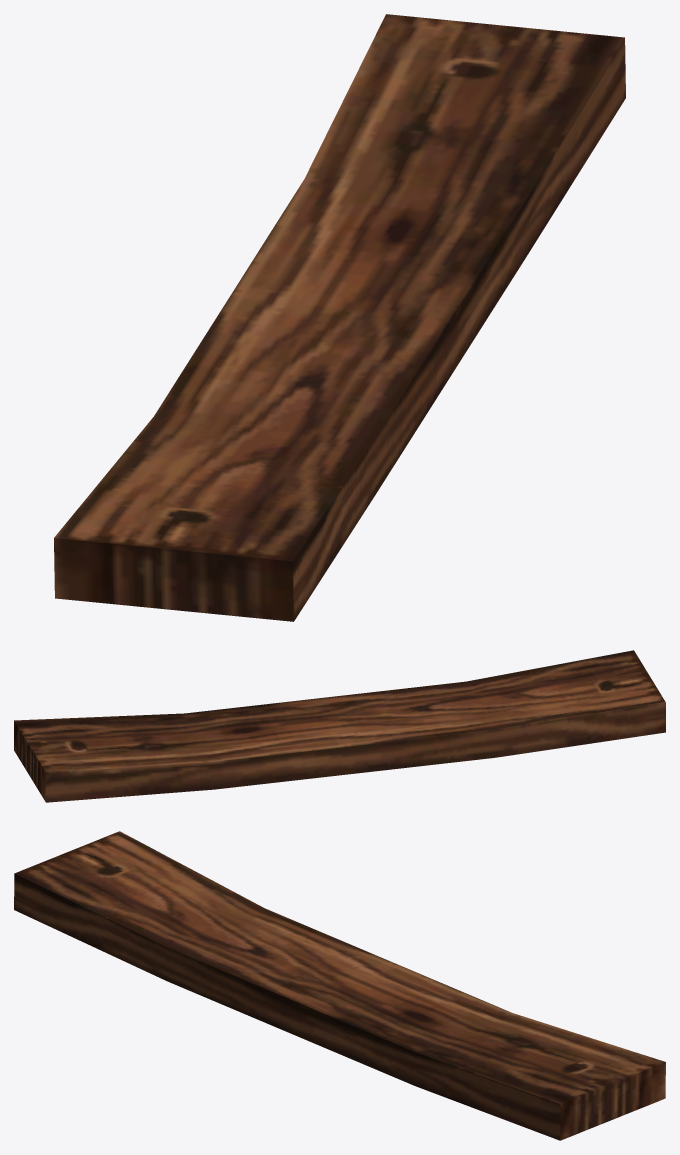
The model's file is OVERHILL_A_01_WOOD_BOARD_25.fbx.
3 renders of one model, top to bottom at view 1: azimuth 30°, elevation 25°; view 2: azimuth 150°, elevation 25°; view 3: azimuth 270°, elevation 25°, orthographic. The views are drawn at different scales.
Visible parts, largest first — view 1: OVERHILL_A_01_WOOD_BOARD_25; view 2: OVERHILL_A_01_WOOD_BOARD_25; view 3: OVERHILL_A_01_WOOD_BOARD_25.
Part boxes in pixels (x1,y1,x2,y2): OVERHILL_A_01_WOOD_BOARD_25: (54, 14, 625, 621); OVERHILL_A_01_WOOD_BOARD_25: (14, 650, 665, 802); OVERHILL_A_01_WOOD_BOARD_25: (14, 831, 665, 1140).
Size of the model in its own units: 15412 by 1257 by 15412.
Materials: 1 (1 with a texture image).
